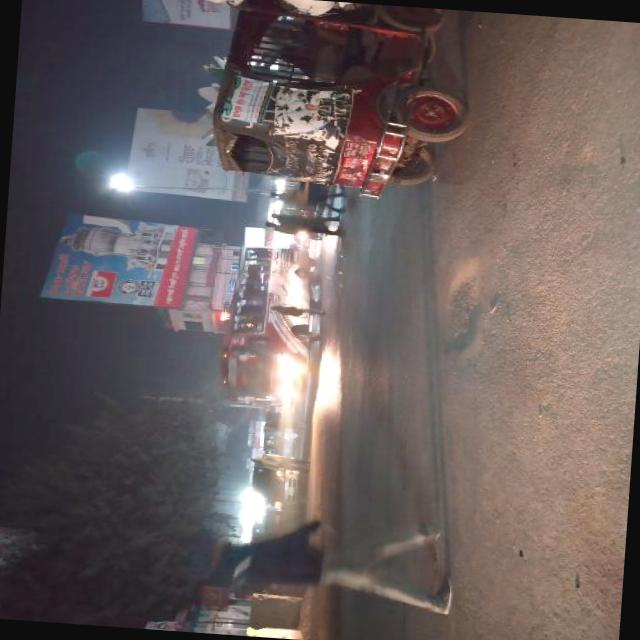bus: (224, 241, 334, 404)
motorcycle: (216, 1, 482, 201)
truck: (252, 458, 304, 512)
